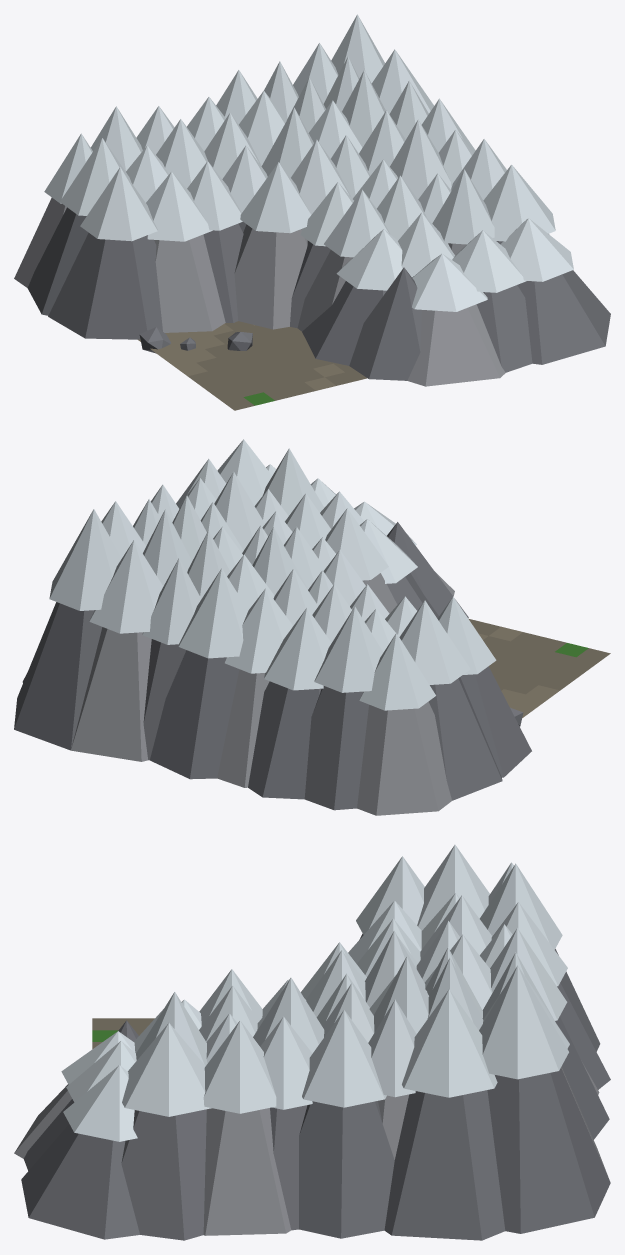
The model's file is chunk_6_0.glb.
3 renders of one model, top to bottom at view 1: azimuth 30°, elevation 25°; view 2: azimuth 150°, elevation 25°; view 3: azimuth 270°, elevation 25°, orthographic. The views are drawn at different scales.
Parts seen in each view (by area): view 1: chunk_6_0; view 2: chunk_6_0; view 3: chunk_6_0.
Part boxes in pixels (x1,y1,x2,y2): chunk_6_0: [14, 14, 610, 410]; chunk_6_0: [14, 439, 610, 815]; chunk_6_0: [14, 844, 610, 1240].
Size of the model in its own units: 21.06 by 9.45 by 21.35.
